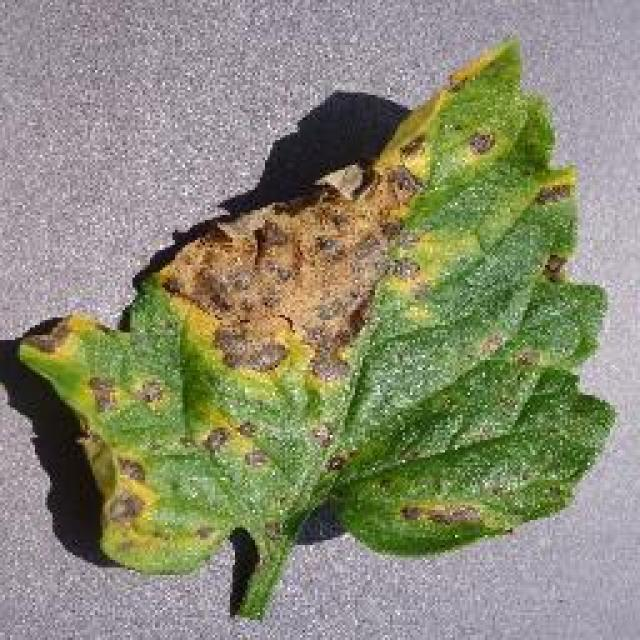Tomato Septoria spot leaf: (19, 31, 615, 578)
